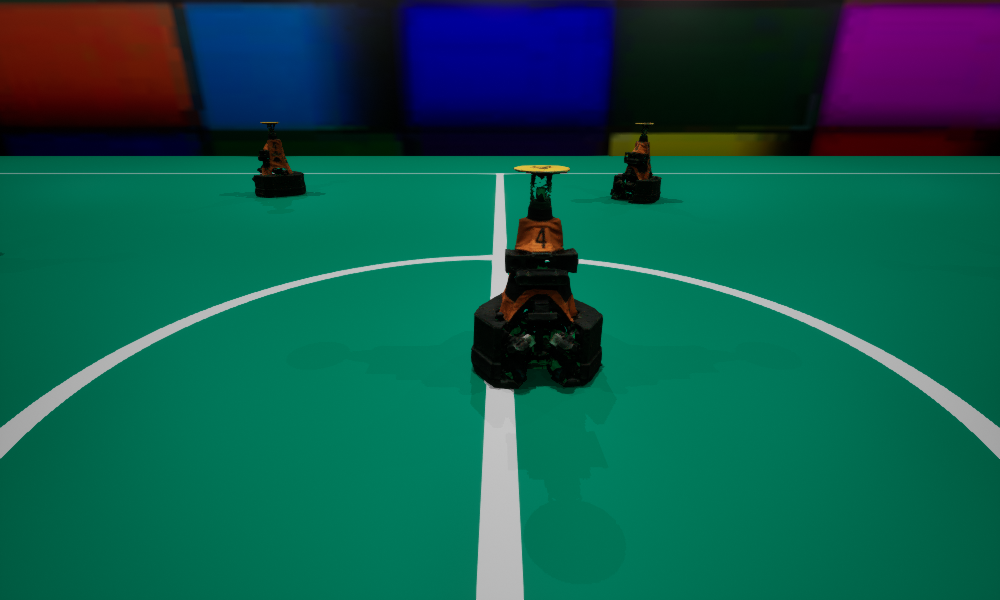o: (471, 165, 602, 388), (610, 123, 661, 202), (252, 122, 305, 197)
